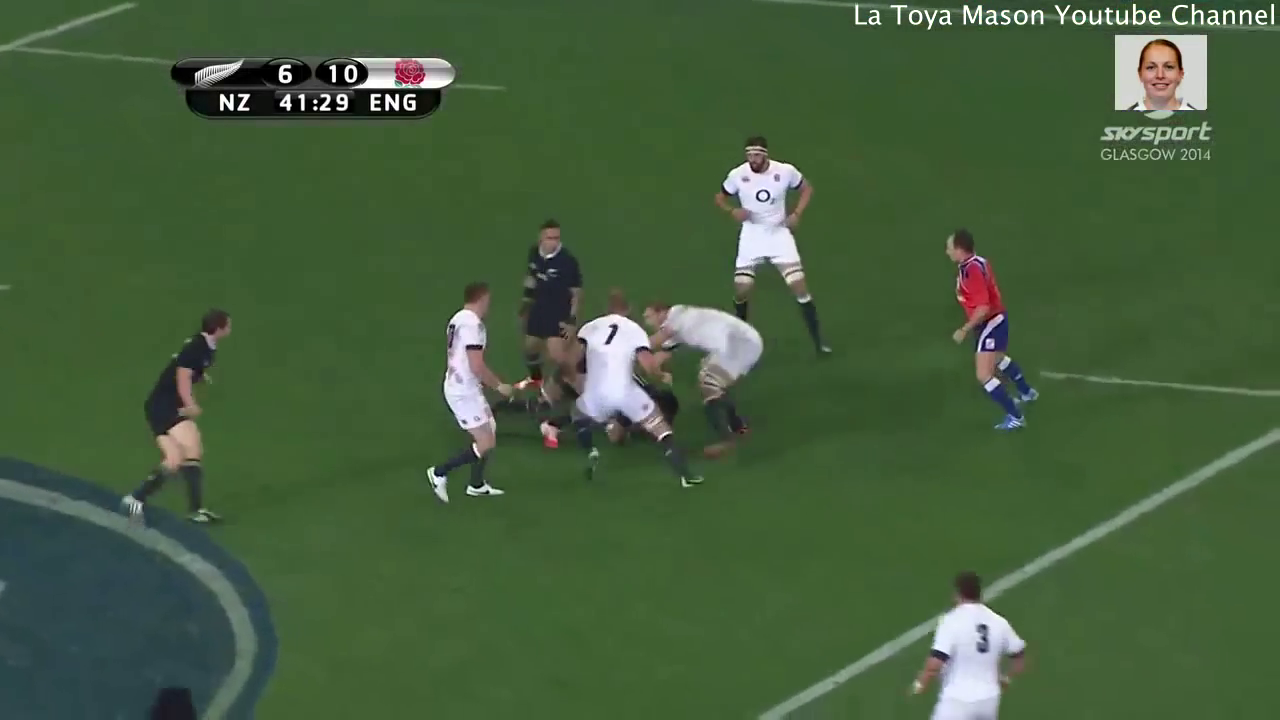player: (709, 127, 849, 367), (573, 286, 711, 495), (121, 309, 237, 532), (937, 223, 1046, 433), (907, 554, 1035, 720), (418, 279, 511, 507), (641, 300, 774, 455), (517, 217, 579, 400)
